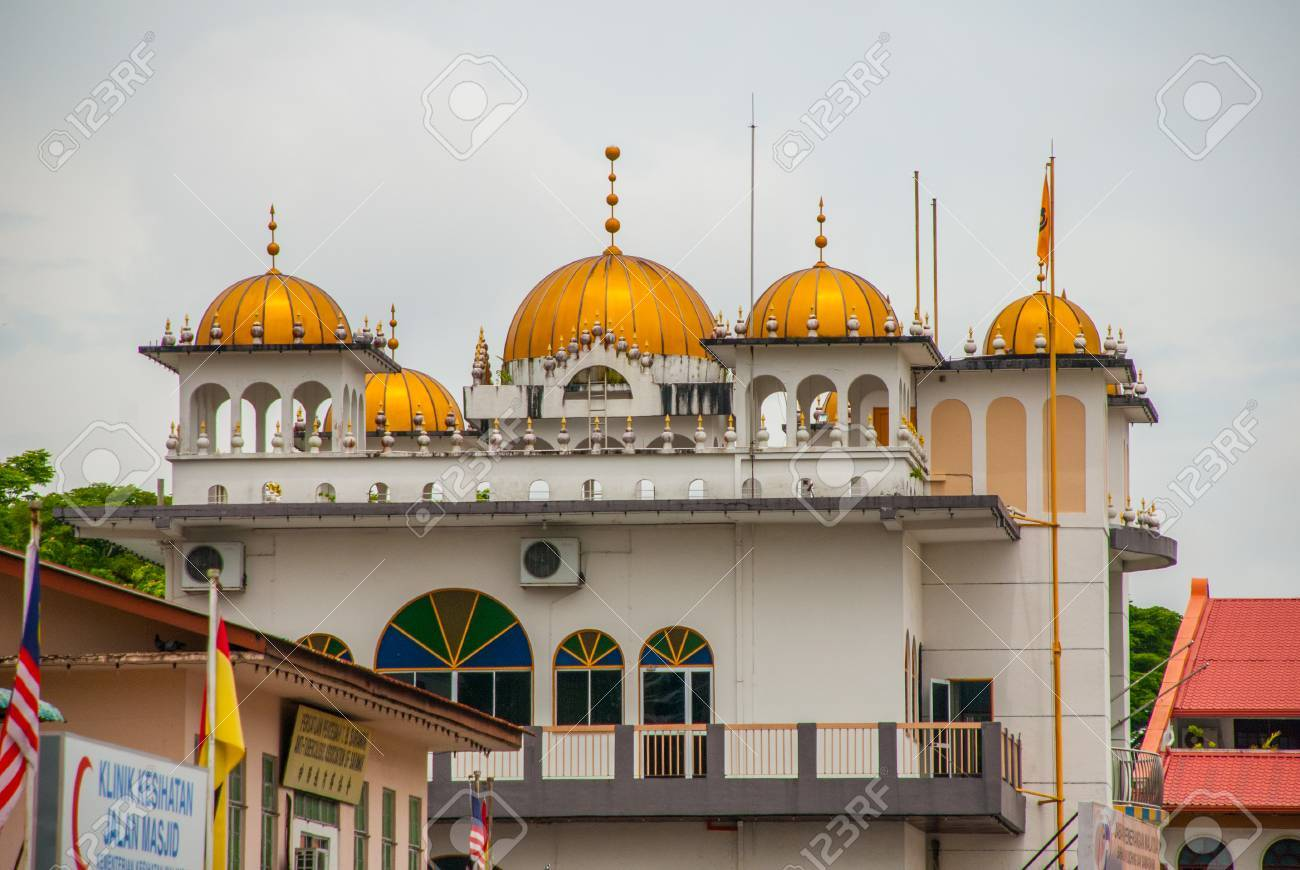Gurdwara: (161, 139, 1165, 860)
